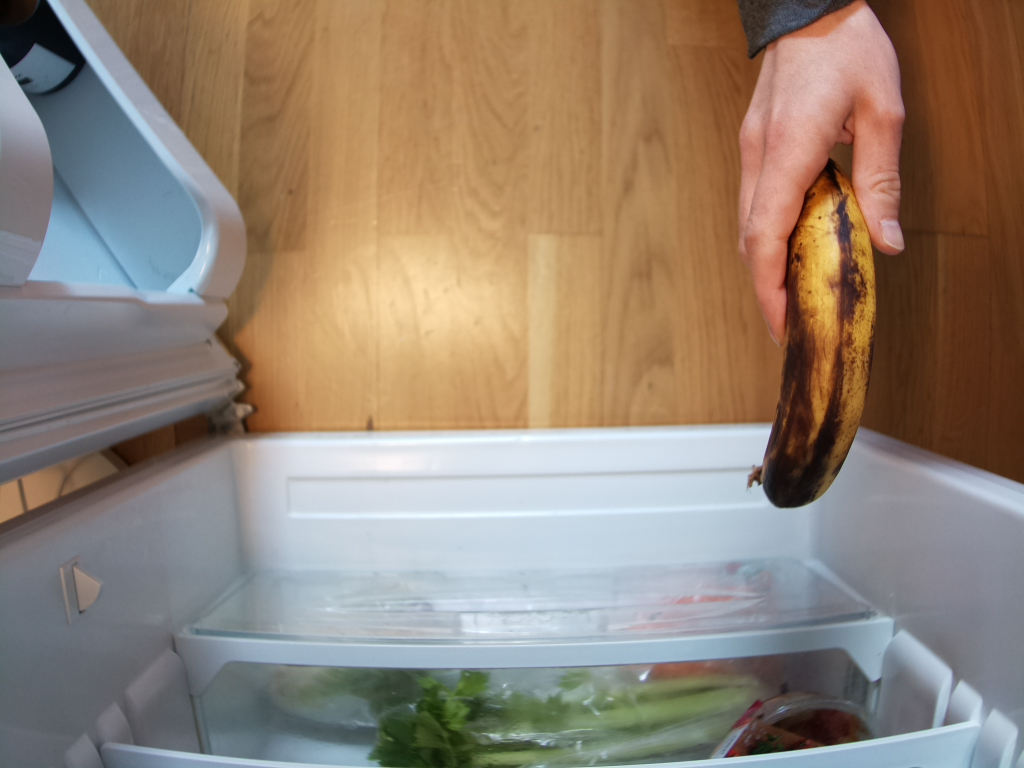banana-overripe: (749, 161, 877, 510)
